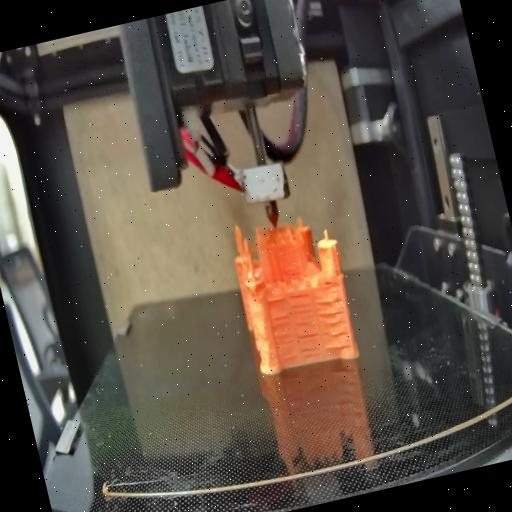cracks: (317, 296, 353, 352), (270, 313, 298, 360), (286, 288, 318, 328), (296, 330, 324, 363), (266, 290, 286, 307), (320, 274, 336, 290)
